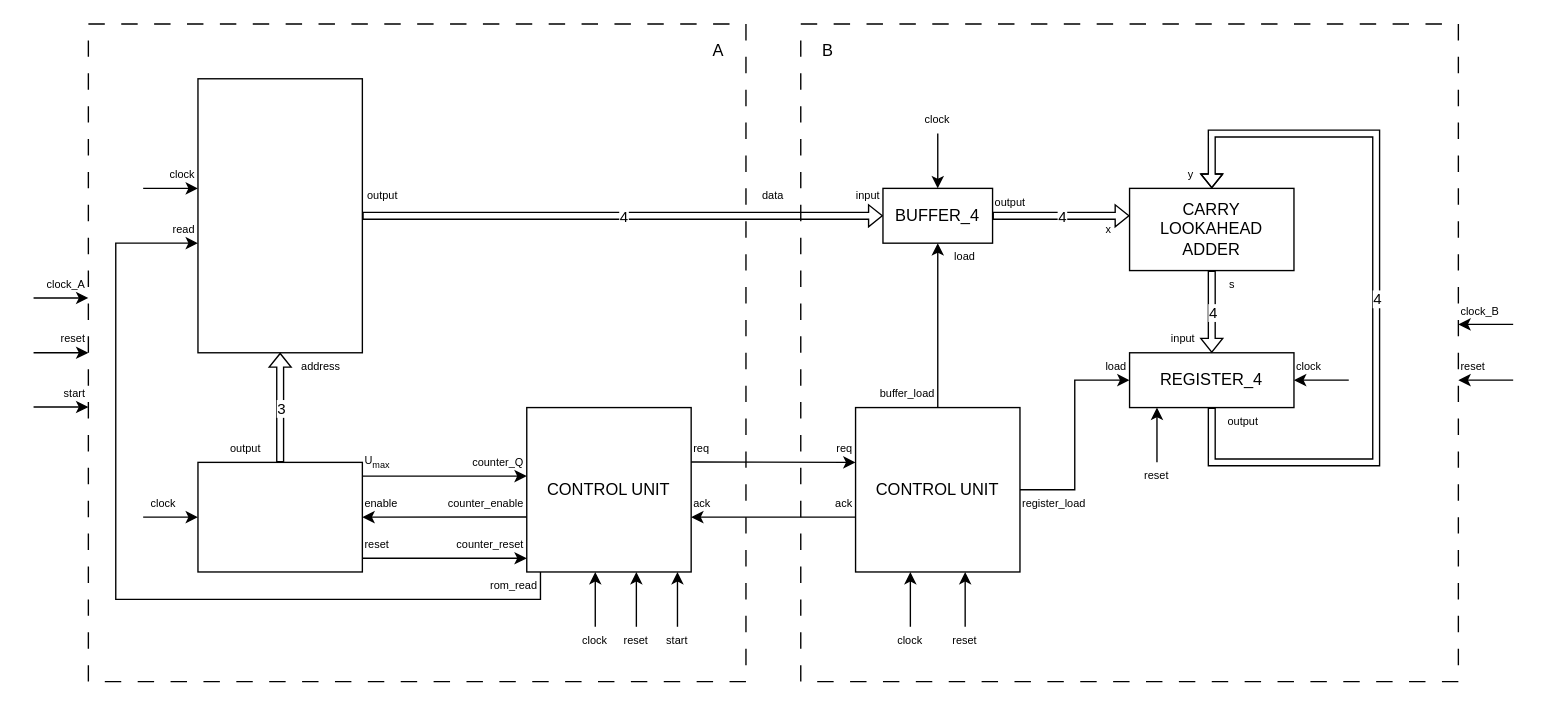
This 1548x706 diagram has some shape labels left out. The box of each missing label's shape, as (x1, y1, x2, y2) in pixels:
COUNTER_8: (197, 461, 362, 572)
ROM 8:4: (197, 77, 362, 353)
